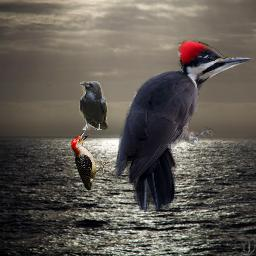Crow: (79, 81, 108, 130)
Woodpecker: (109, 39, 254, 210), (71, 130, 111, 190)
